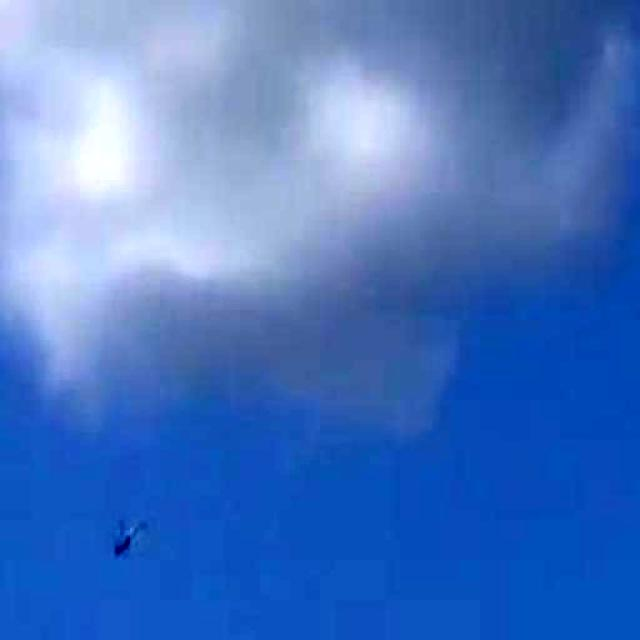drone: (78, 486, 179, 582)
